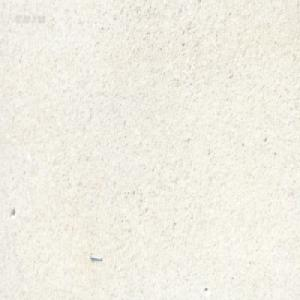Nail: (88, 251, 103, 261)
